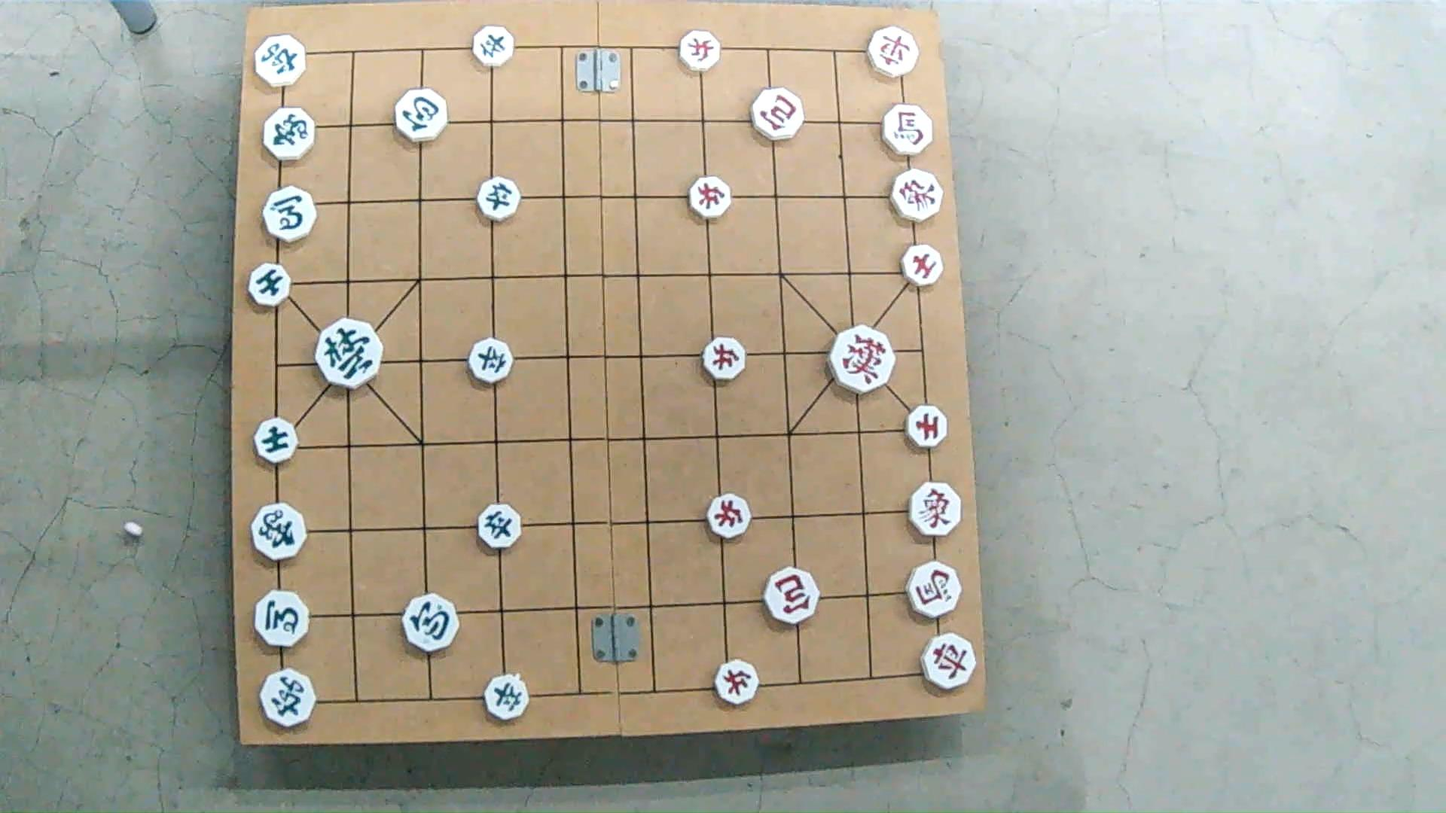cha_green: (262, 669, 319, 723), (252, 35, 308, 88)
cha_red: (922, 629, 977, 690), (865, 27, 917, 75)
jol_green: (483, 678, 528, 722), (468, 342, 514, 384), (477, 506, 520, 550), (477, 179, 520, 220), (470, 28, 514, 68)
jol_red: (705, 495, 751, 537), (714, 662, 758, 704), (688, 177, 733, 218), (702, 340, 747, 381), (680, 32, 723, 71)
ma_green: (253, 589, 312, 645), (263, 189, 318, 240)
ma_red: (907, 562, 962, 617), (880, 107, 933, 156)
po_green: (401, 592, 459, 655), (395, 92, 449, 143)
po_red: (764, 570, 819, 621), (752, 90, 805, 142)
sa_green: (254, 419, 298, 463), (250, 265, 294, 305)
sa_red: (908, 407, 948, 449), (903, 245, 941, 284)
sang_green: (251, 500, 308, 559), (261, 110, 319, 161)
sang_red: (908, 483, 962, 535), (893, 169, 942, 221)
wang_green: (316, 322, 383, 386)
wang_red: (828, 329, 895, 392)
